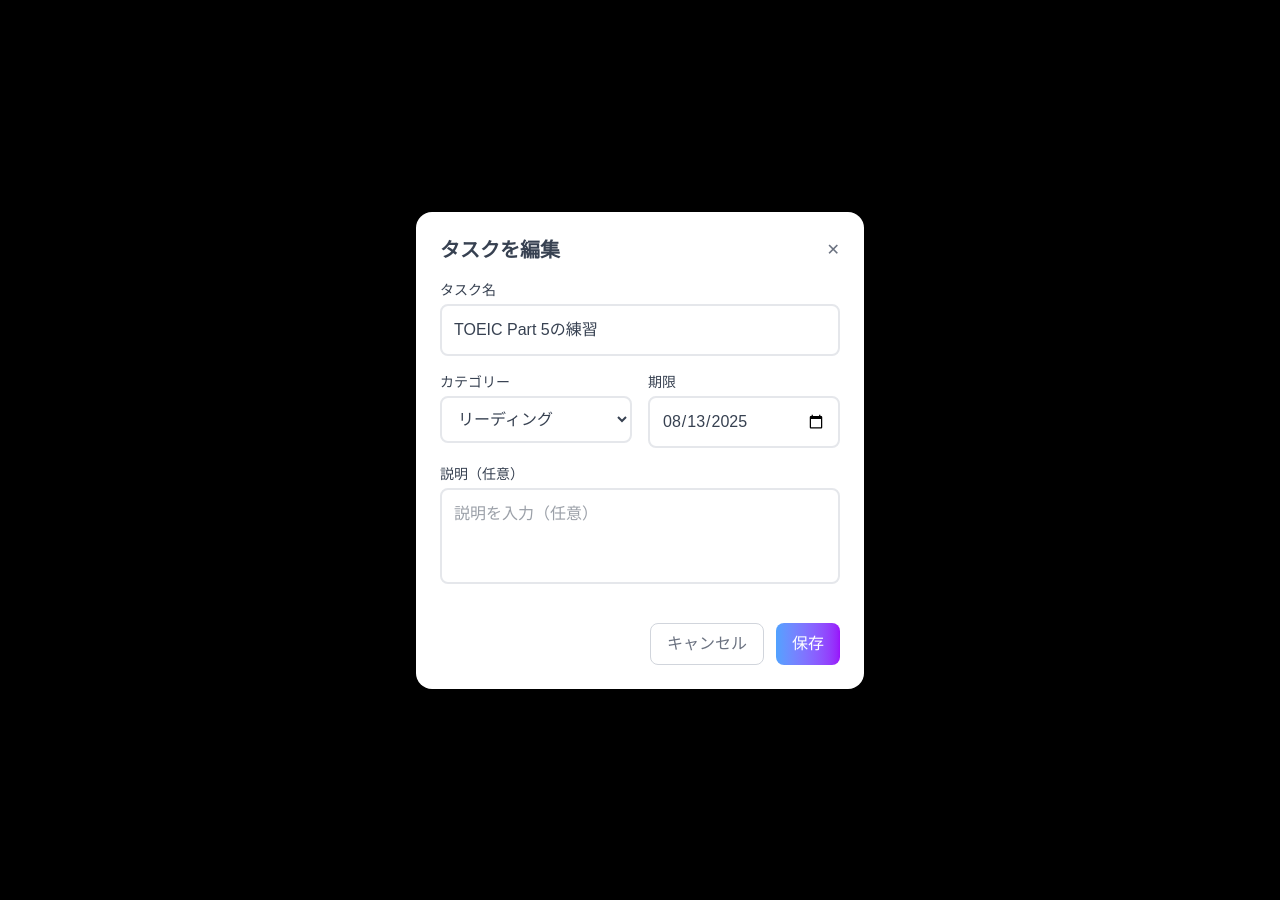
Test: タスク編集機能 › タスク名が空の場合にエラーが表示されること
Clear the field showing "TOEIC Part 5の練習" at (640, 330), box [440, 304, 840, 356]
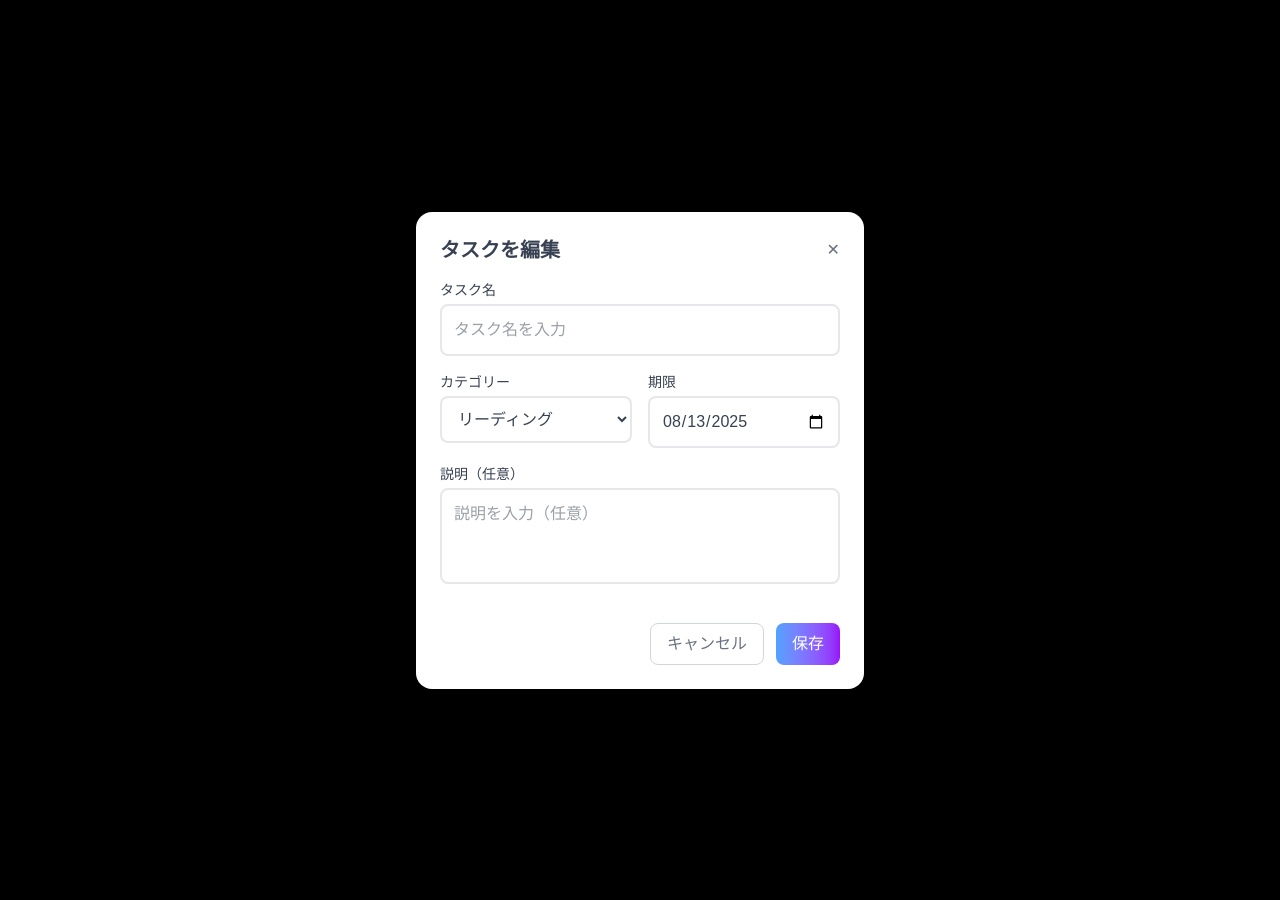
Click the button "保存" at (808, 644), box [776, 622, 840, 664]
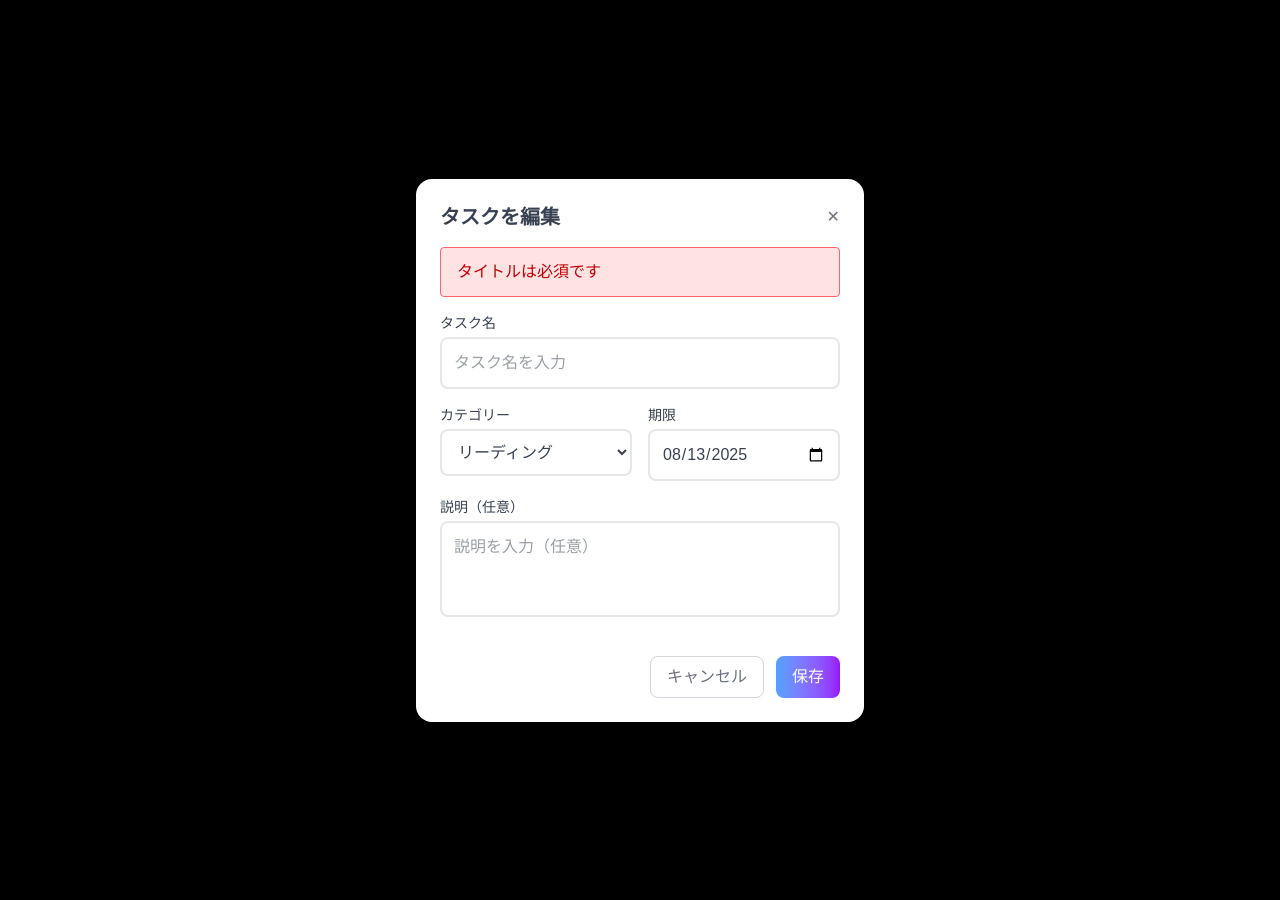
Now the message reads "タイトルは必須です", box [457, 262, 601, 280]
